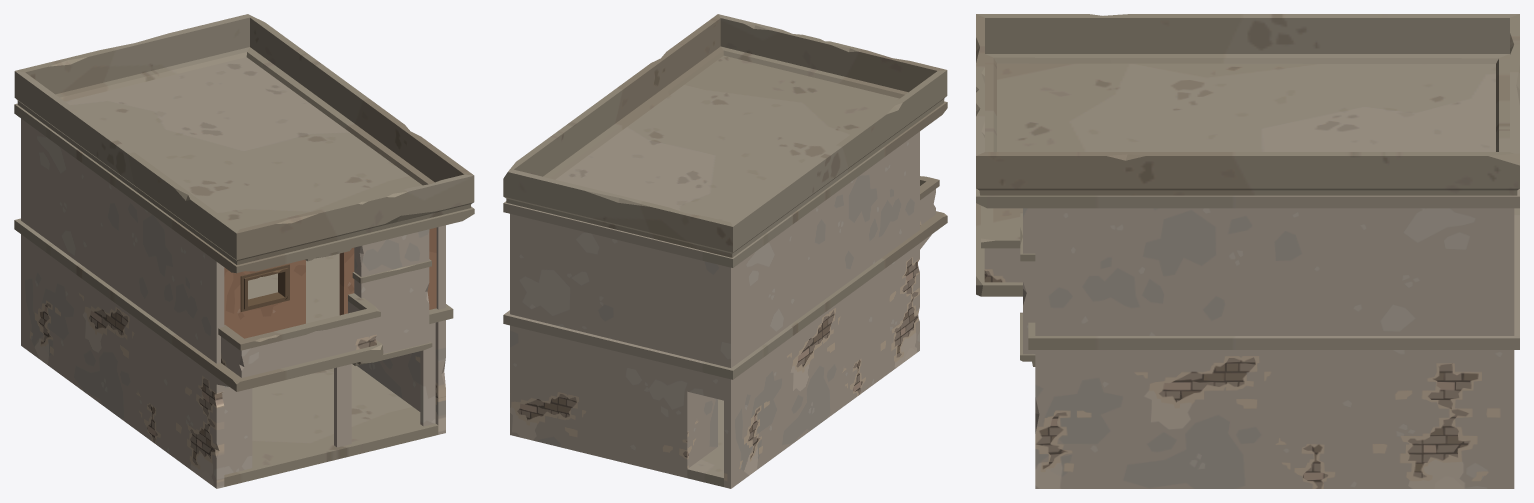
The model's file is SM_Bld_Shop_09.glb.
The picture shows the model from 3 angles, left to right: view 1: azimuth 30°, elevation 25°; view 2: azimuth 150°, elevation 25°; view 3: azimuth 270°, elevation 25°; orthographic projection. The views are drawn at different scales.
Visible parts, largest first — view 1: SM_Bld_Shop_09; view 2: SM_Bld_Shop_09; view 3: SM_Bld_Shop_09.
Part boxes in pixels (x1,y1,x2,y2): SM_Bld_Shop_09: (14, 14, 474, 488); SM_Bld_Shop_09: (503, 14, 947, 488); SM_Bld_Shop_09: (976, 14, 1519, 488).
Bounding box in the file's own units: 7.02 × 7.73 × 11.36.
Materials: 1 (1 with a texture image).
